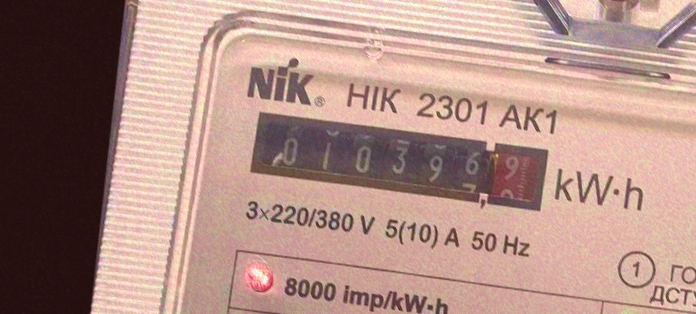0: (348, 140, 373, 176), (275, 132, 299, 167)
1: (316, 137, 332, 171)
3: (387, 143, 408, 178)
6: (458, 147, 482, 178)
9: (420, 151, 444, 186), (496, 152, 520, 184)
screen: (231, 97, 559, 226)
